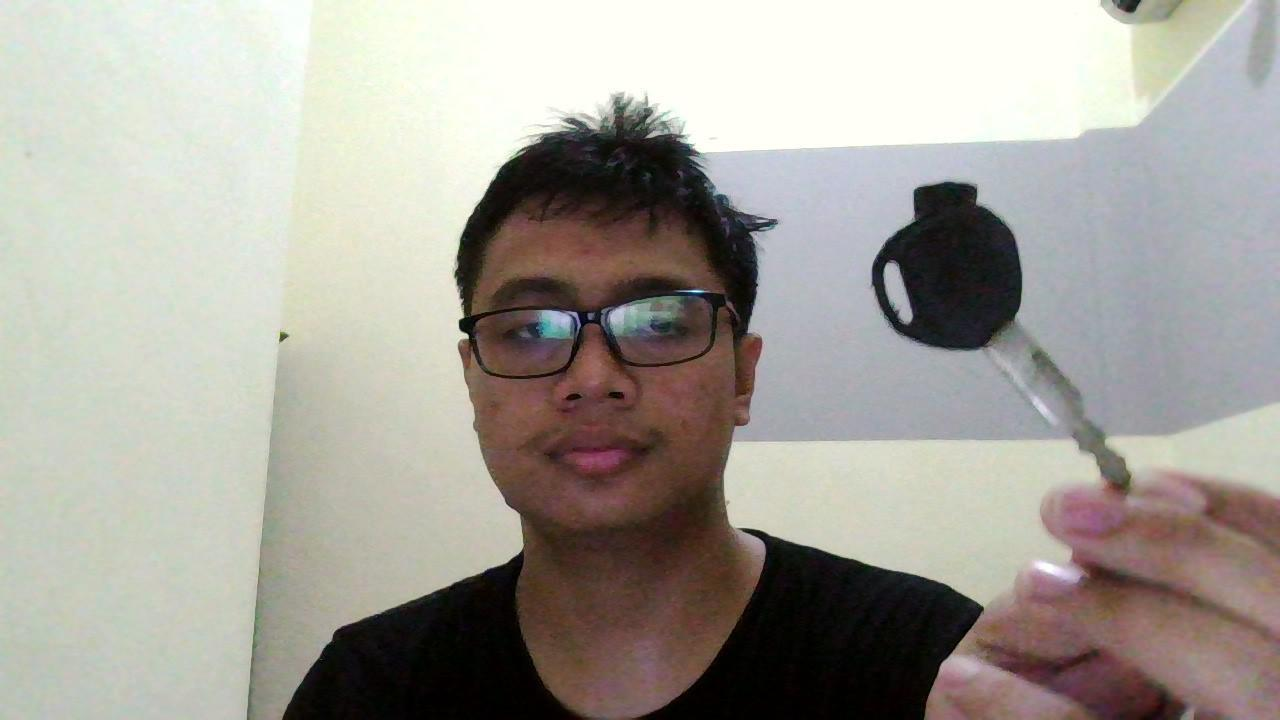keys: (871, 176, 1136, 496)
